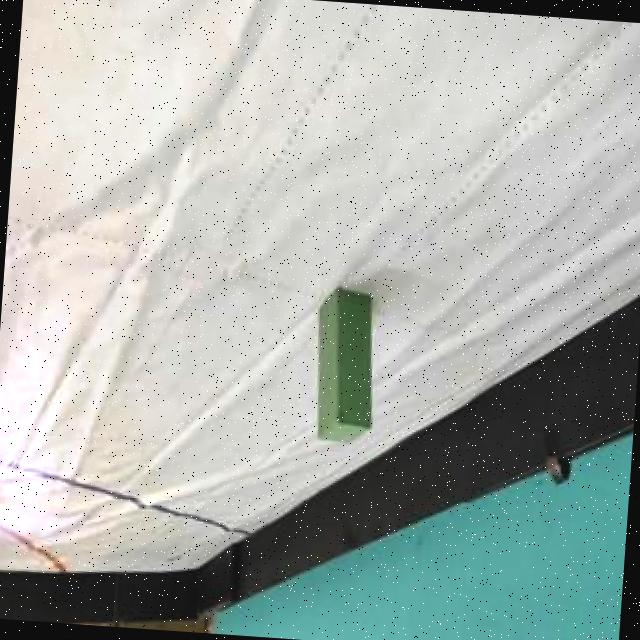greenbox: (306, 280, 380, 446)
